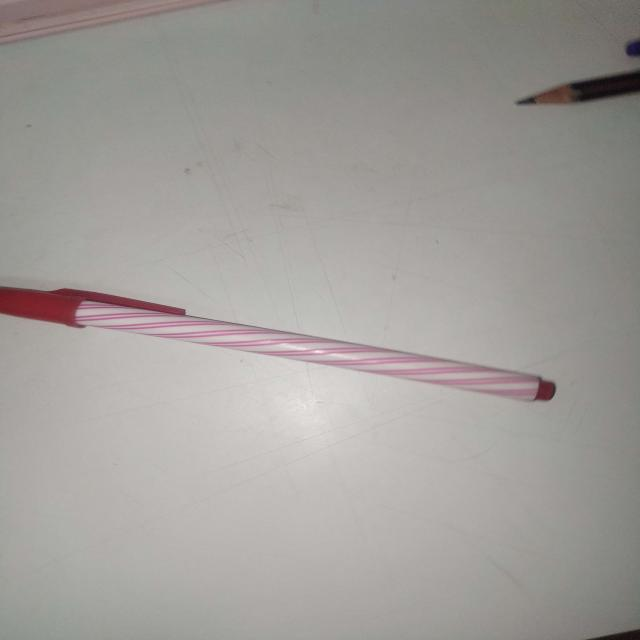pen_pencil: (0, 254, 589, 474)
